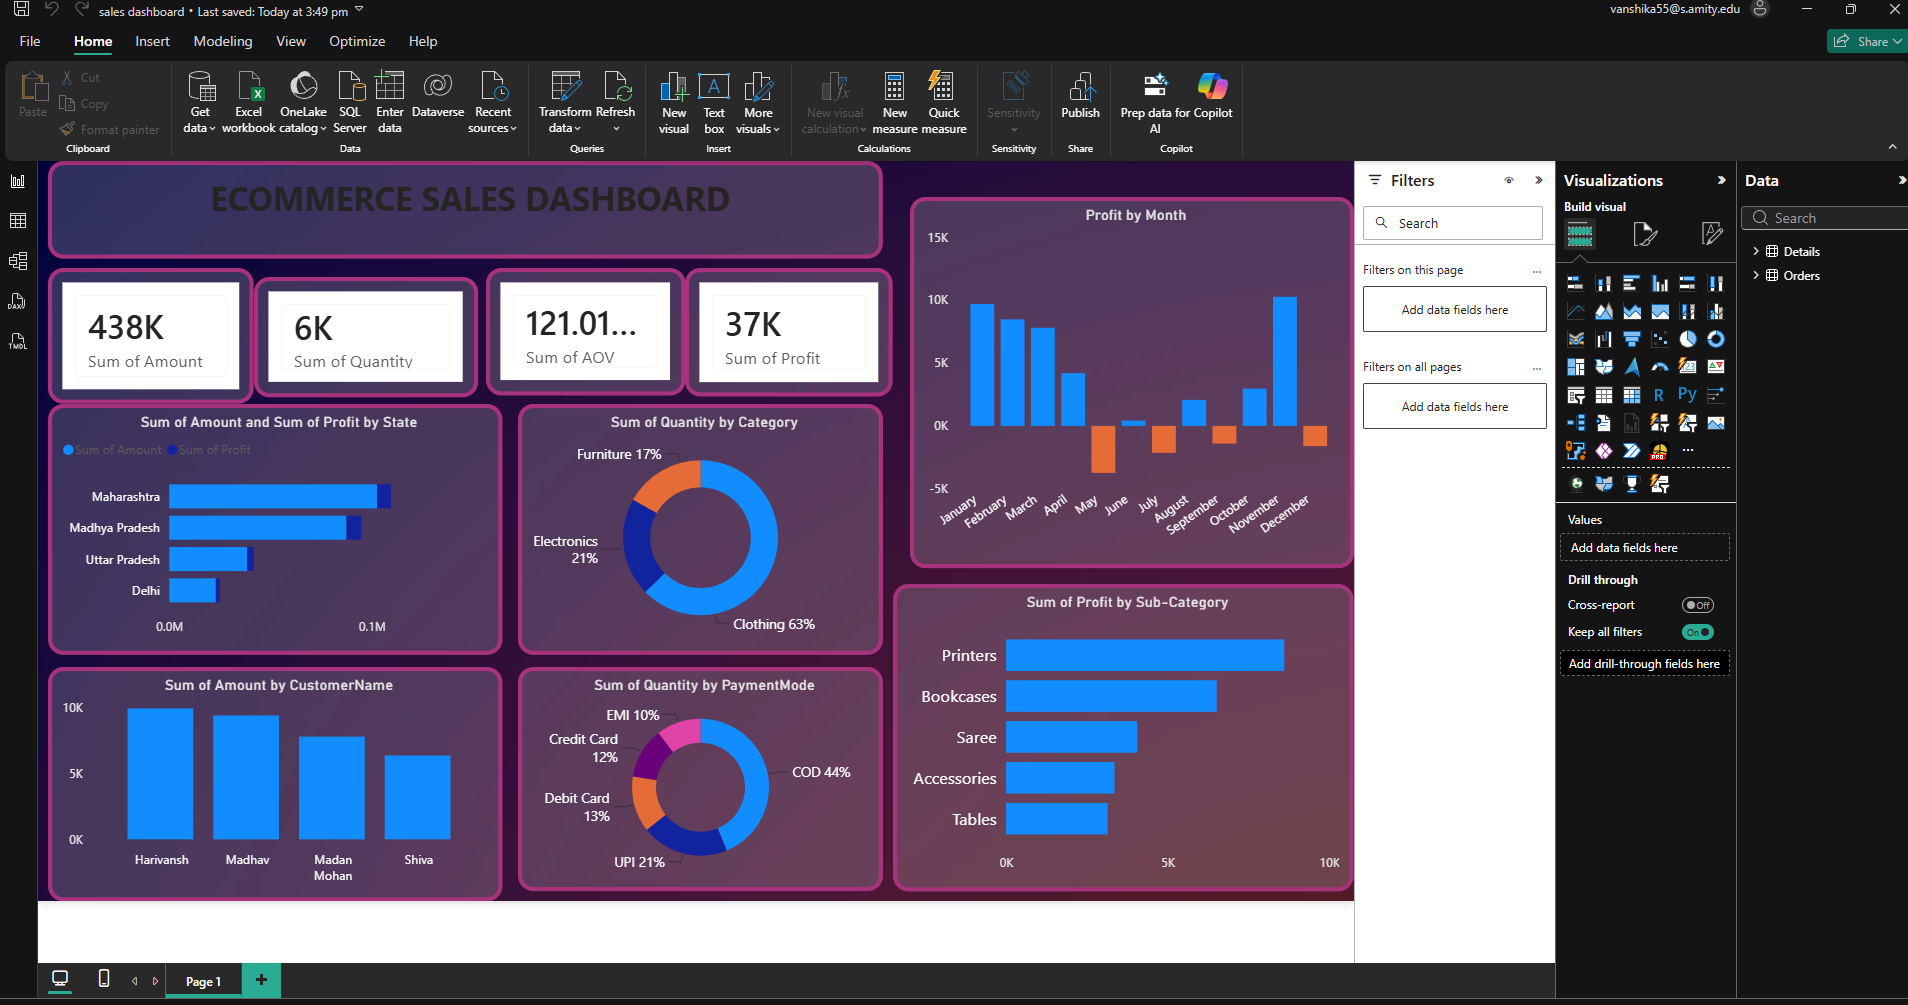

What the dashboard file says about the page in this screenshot:
{"tool":"powerbi","page":{"name":"Page 1","canvas":[1280,720],"ordinal":0},"visuals":[{"type":"textbox","box":[9.7,0,812.2,95.3],"z":0},{"type":"columnChart","title":"Profit by Month","fields":{"Category":["Orders.Order Date.Variation.Date Hierarchy.Month"],"Y":["Sum(Details.Profit)"]},"box":[848.1,35,431.9,360.9],"z":1000},{"type":"barChart","fields":{"Category":["Details.Sub-Category"],"Y":["Sum(Details.Profit)"]},"box":[831.6,411.4,448.4,298.6],"z":2000},{"type":"donutChart","fields":{"Category":["Details.Category"],"Y":["Sum(Details.Quantity)"]},"box":[466.9,236.4,355,244.1],"z":3000},{"type":"donutChart","fields":{"Category":["Details.PaymentMode"],"Y":["Sum(Details.Quantity)"]},"box":[466.9,492.2,355,217.9],"z":4000},{"type":"cardVisual","fields":{"Data":["Sum(Details.Amount)"]},"box":[9.7,104.1,200.4,132.3],"z":5000},{"type":"cardVisual","fields":{"Data":["Sum(Details.Quantity)"]},"box":[210.1,112.8,217.9,116.7],"z":6000},{"type":"cardVisual","fields":{"Data":["Sum(Details.Profit)"]},"box":[629.3,104.1,202.3,125.5],"z":7000},{"type":"cardVisual","fields":{"Data":["Sum(Details.AOV)"]},"box":[435.7,104.1,193.6,123.5],"z":8000},{"type":"barChart","fields":{"Category":["Orders.State"],"Y":["Sum(Details.Amount)","Sum(Details.Profit)"]},"box":[9.7,236.4,441.6,244.1],"z":9000},{"type":"columnChart","fields":{"Category":["Orders.CustomerName"],"Y":["Sum(Details.Amount)"]},"box":[9.7,492.2,441.6,227.6],"z":10000}]}

Visuals, with their boxes on the page's 1280x720 design canvas (x1, y1, x2, y2). These are canvas units, not pixel positions in the 1908x1005 screenshot, which may show the page scaled, cropped or inside an application window:
textbox: left=10, top=0, right=822, bottom=95
"Profit by Month" columnChart: left=848, top=35, right=1280, bottom=396
barChart - Details.Sub-Category x Sum(Details.Profit): left=832, top=411, right=1280, bottom=710
donutChart - Details.Category x Sum(Details.Quantity): left=467, top=236, right=822, bottom=480
donutChart - Details.PaymentMode x Sum(Details.Quantity): left=467, top=492, right=822, bottom=710
cardVisual - Sum(Details.Amount): left=10, top=104, right=210, bottom=236
cardVisual - Sum(Details.Quantity): left=210, top=113, right=428, bottom=230
cardVisual - Sum(Details.Profit): left=629, top=104, right=832, bottom=230
cardVisual - Sum(Details.AOV): left=436, top=104, right=629, bottom=228
barChart - Orders.State x Sum(Details.Amount): left=10, top=236, right=451, bottom=480
columnChart - Orders.CustomerName x Sum(Details.Amount): left=10, top=492, right=451, bottom=720
